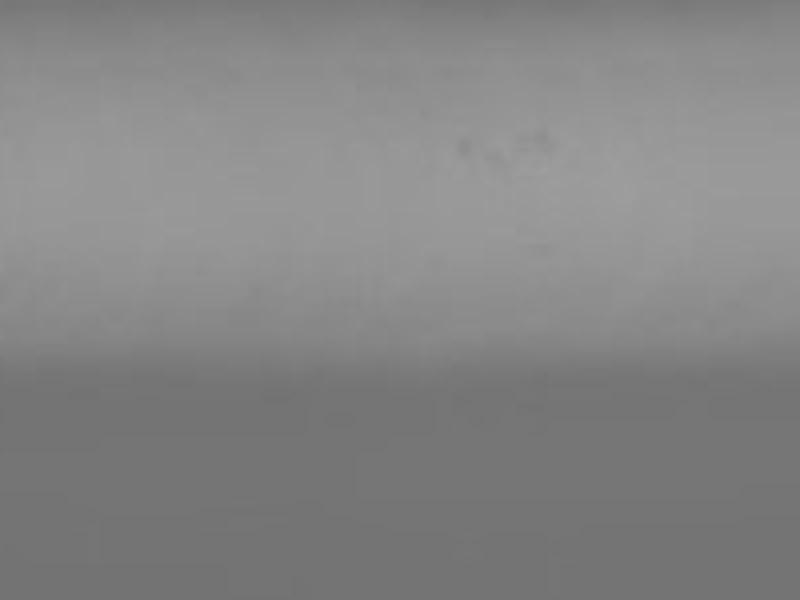defect: (454, 130, 472, 155)
